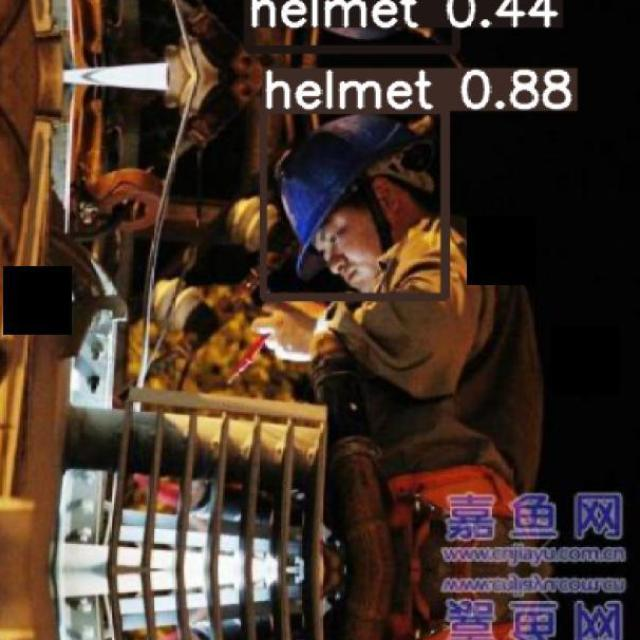helmet: (275, 112, 433, 281)
